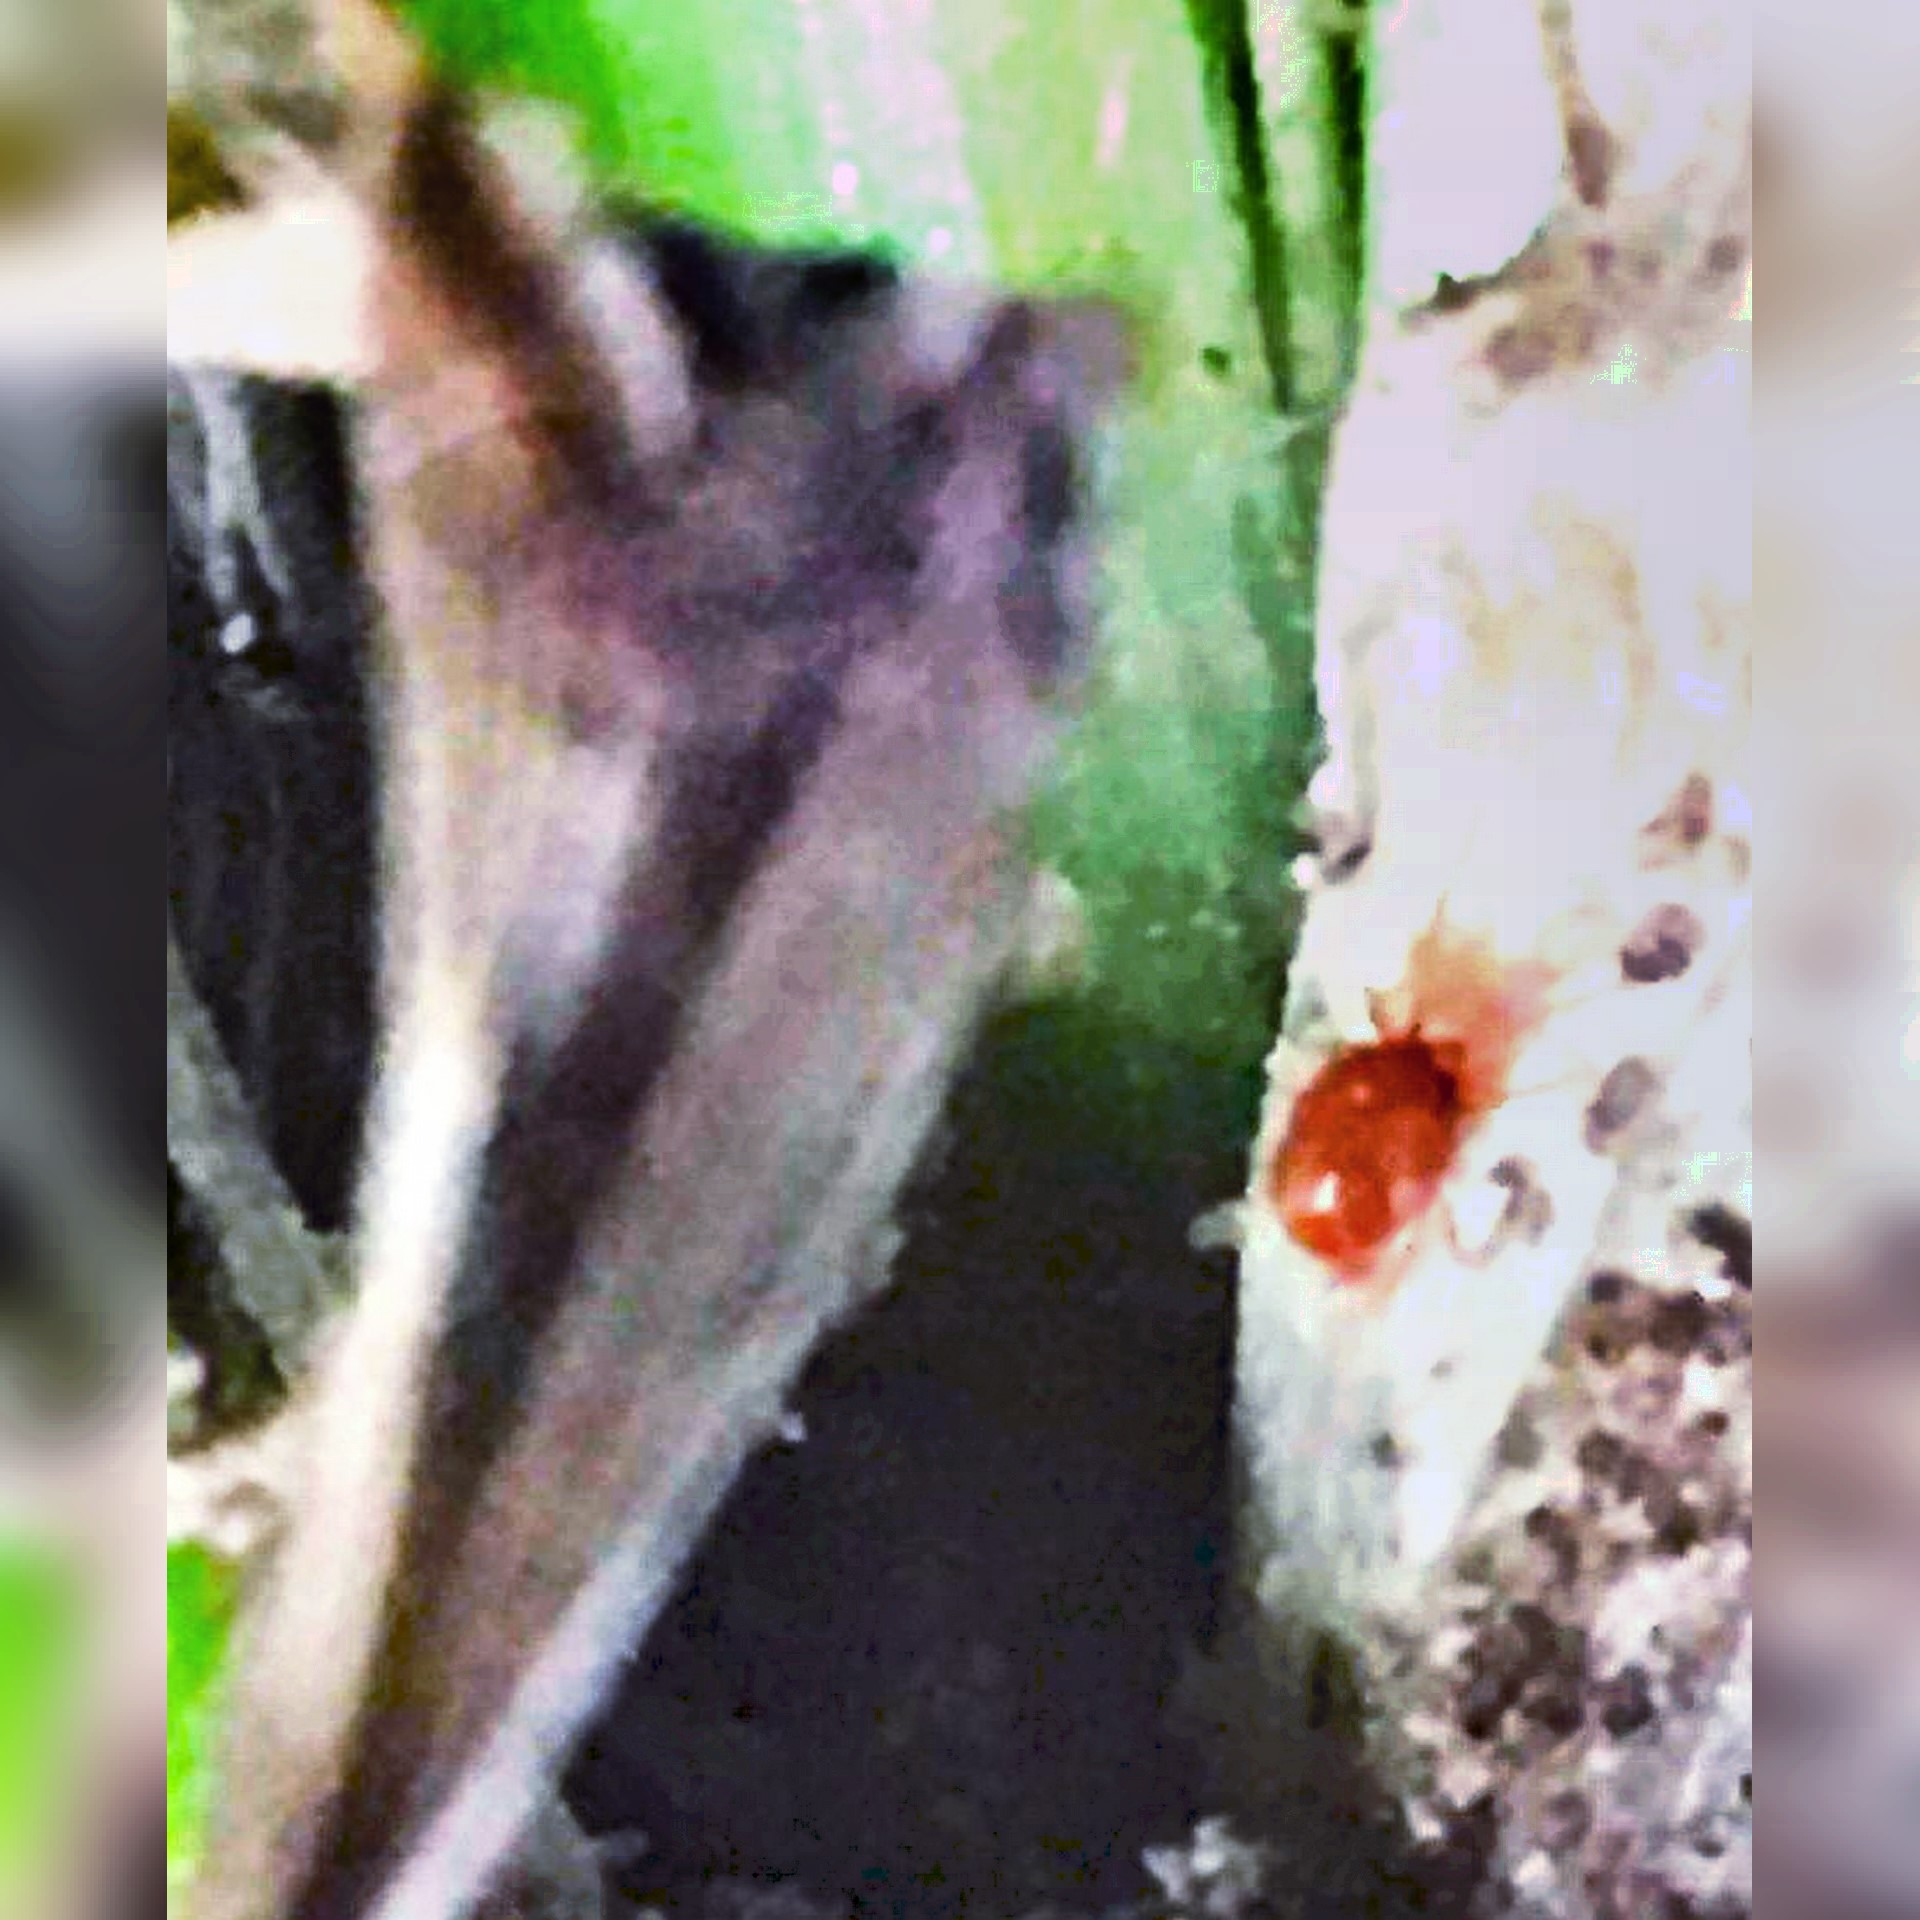Wheat Red Spider: (1220, 890, 1575, 1326)
